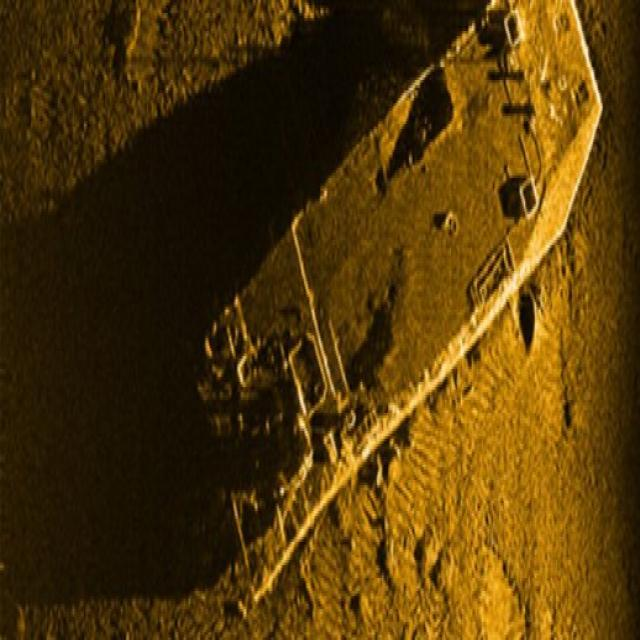shipwreck: (192, 0, 605, 606)
